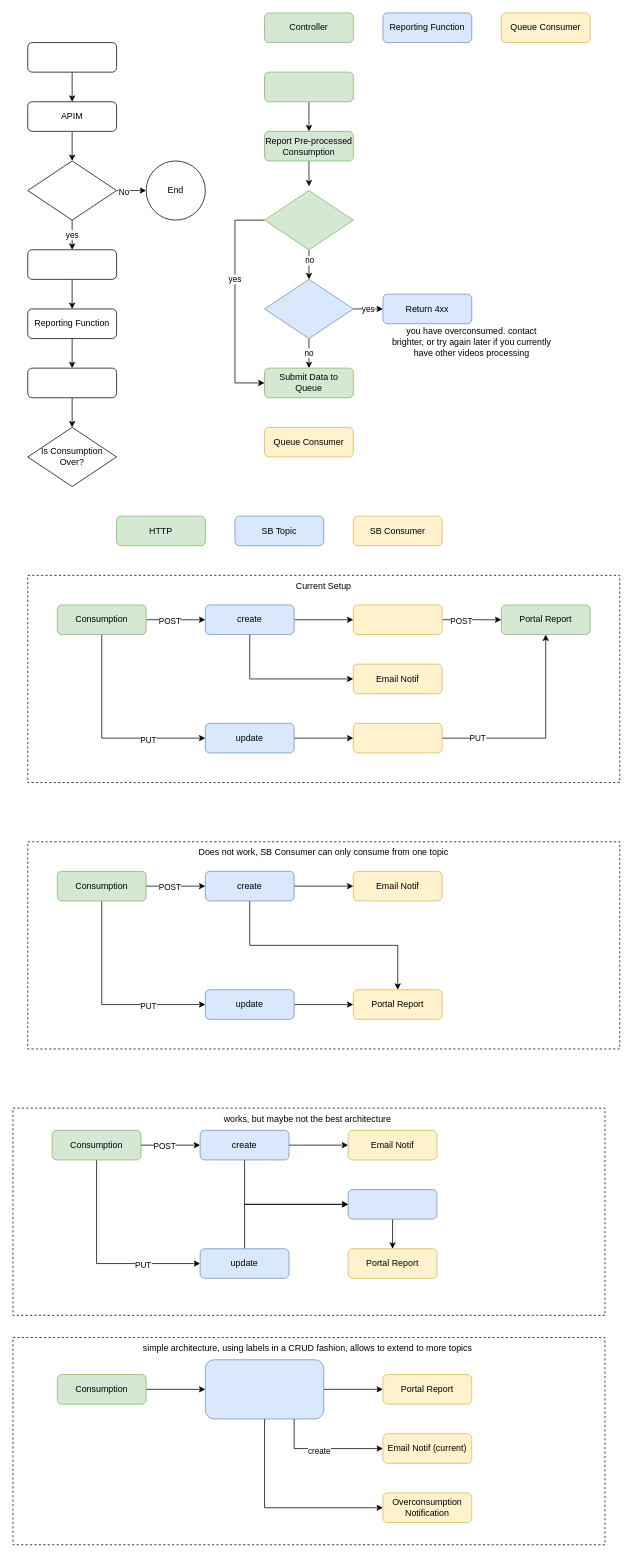
The diagram is 633 pixels wide and 1558 high, and some of its shapes have lost their labels. The box of each missing label's shape, as (x1, y1, x2, y2) in pixels:
Cloud: (27, 249, 117, 279)
ConsumptionData Labels: create, update: (205, 1359, 324, 1419)
Is Product Valid?: (27, 160, 117, 220)
Portal Create: (353, 604, 442, 635)
Portal Update: (353, 723, 442, 753)
Portal User: (27, 42, 117, 72)
report: (347, 1189, 437, 1219)
Reporting Function Offline?: (264, 190, 353, 250)
Stripe: (27, 367, 117, 398)
User is Over Consumption: (264, 279, 353, 339)
Video Posted to Controller: (264, 71, 353, 102)
